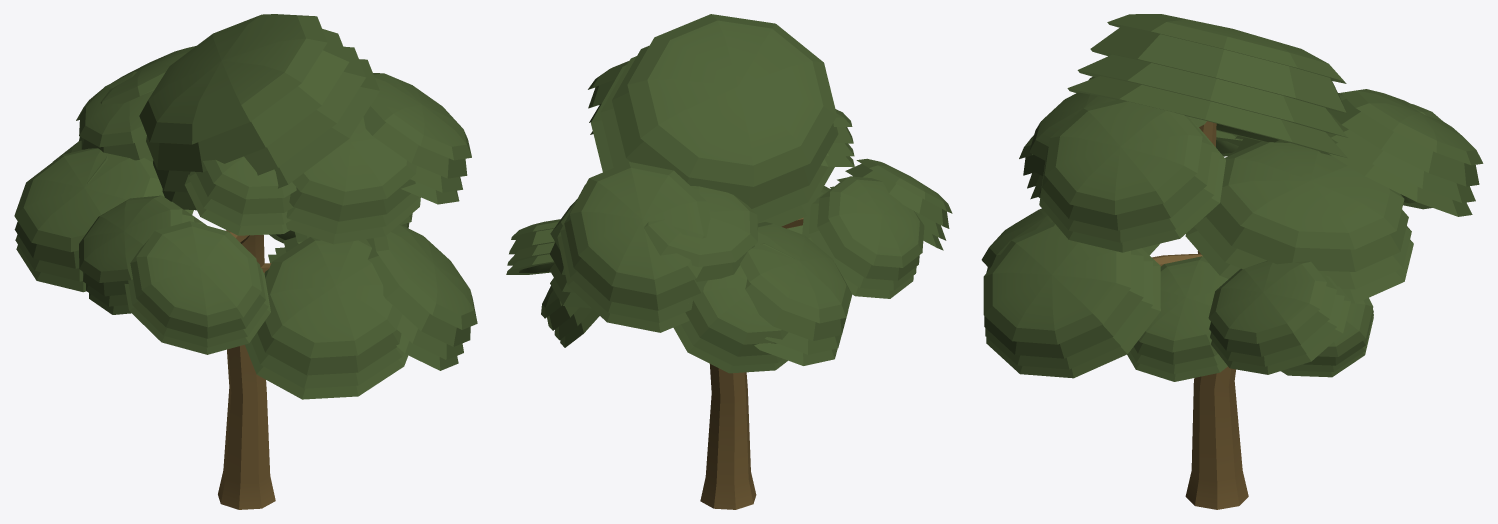
Rendered from Proto_Tree_04.fbx.
3 views of the same model, side by side, from view 1: azimuth 30°, elevation 25°; view 2: azimuth 150°, elevation 25°; view 3: azimuth 270°, elevation 25° (orthographic). The views are drawn at different scales.
Visible parts, largest first — view 1: polySurface1221; view 2: polySurface1221; view 3: polySurface1221.
Part boxes in pixels (x1,y1,x2,y2): polySurface1221: [14, 14, 477, 509]; polySurface1221: [506, 14, 952, 509]; polySurface1221: [981, 14, 1483, 509].
Bounding box in the file's own units: 59.12 × 72.88 × 67.31.
